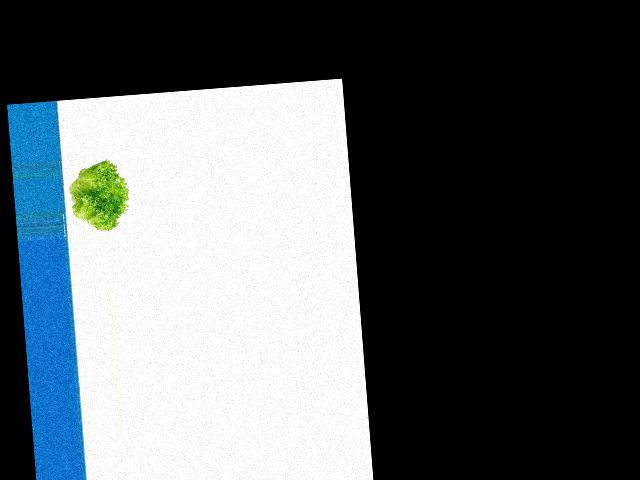lettuce: (63, 160, 133, 234)
